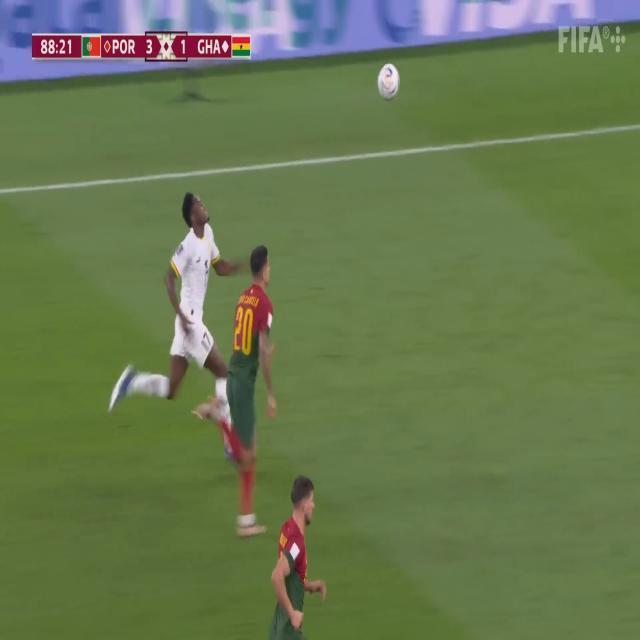football: (367, 55, 413, 101)
